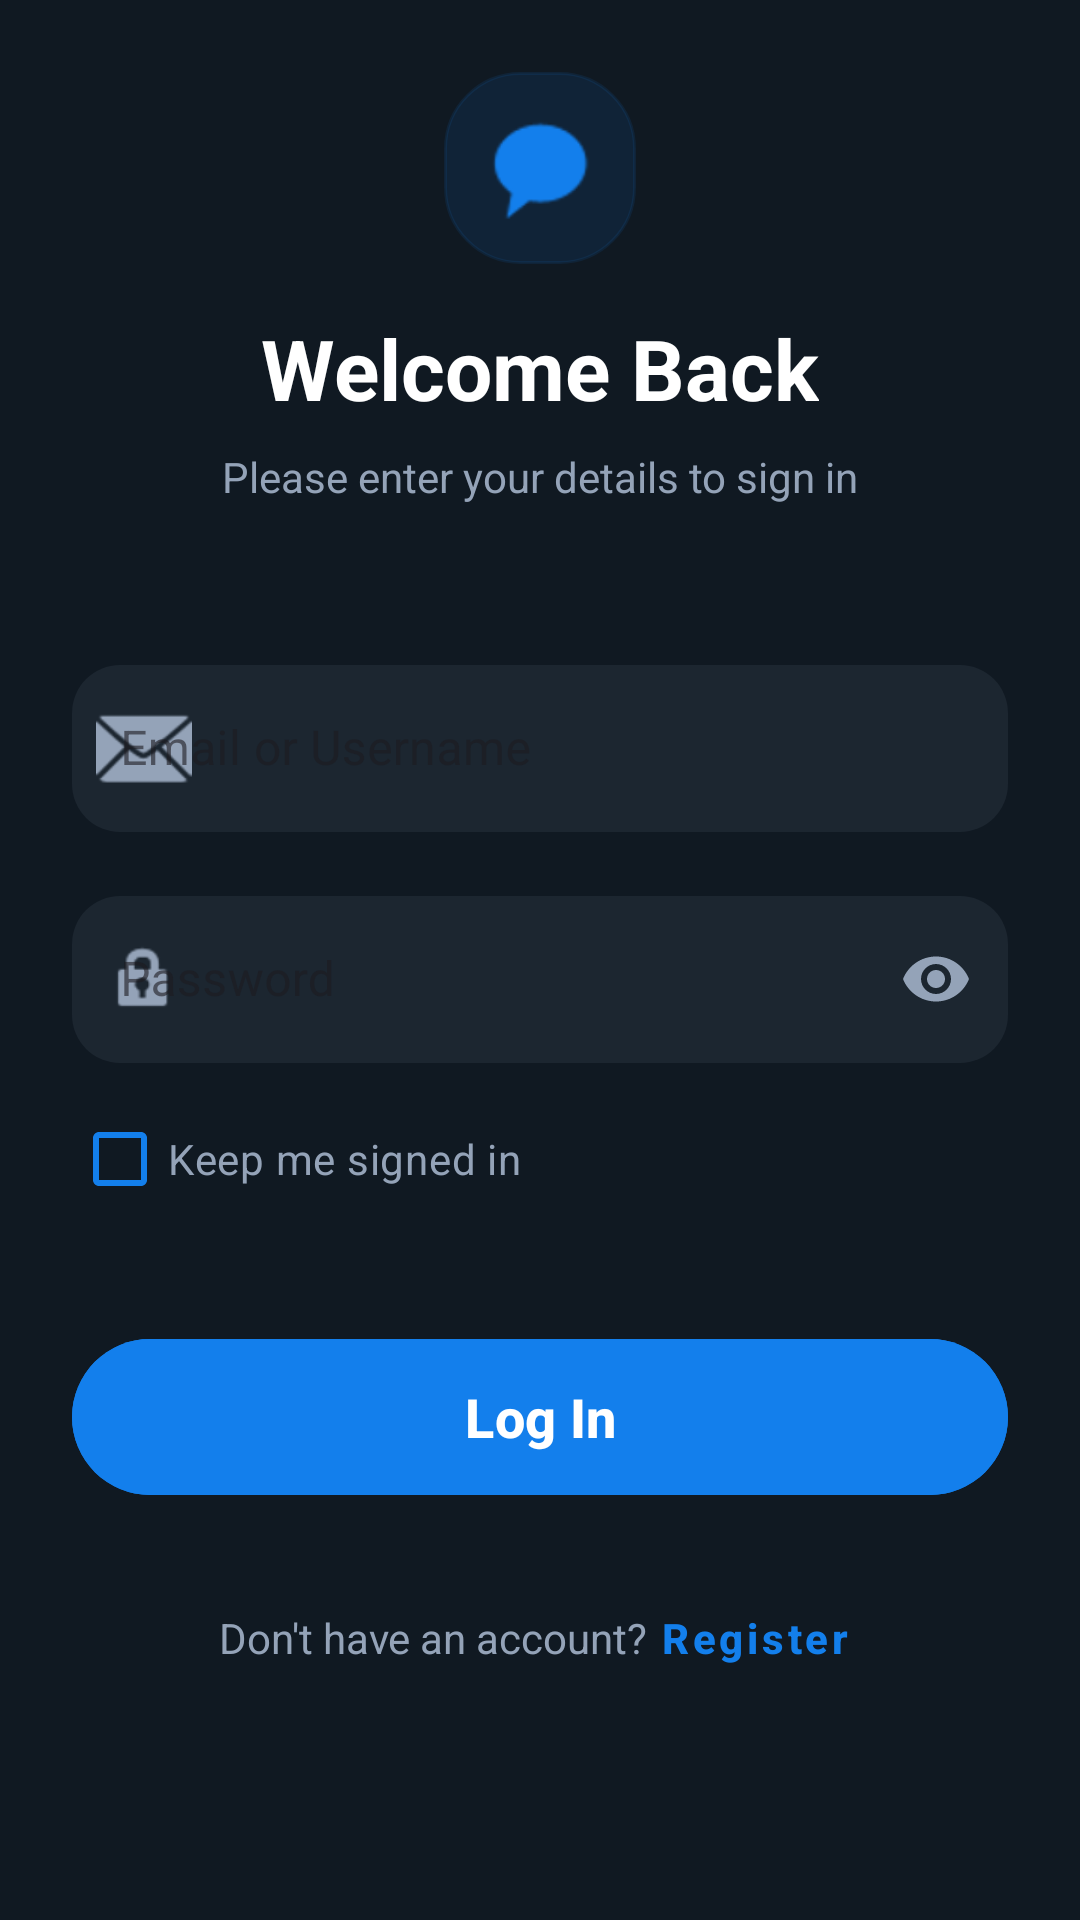

Screen size 1080px×1920px. Icon name, then its center in pixels as point (x, y):
sym action chat: point (540, 168)
